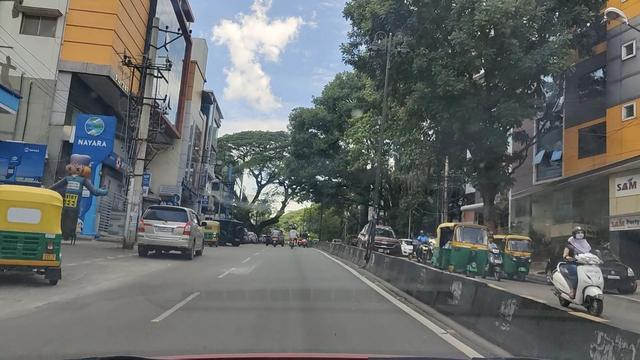LMV: (2, 186, 67, 285), (140, 207, 209, 260)
